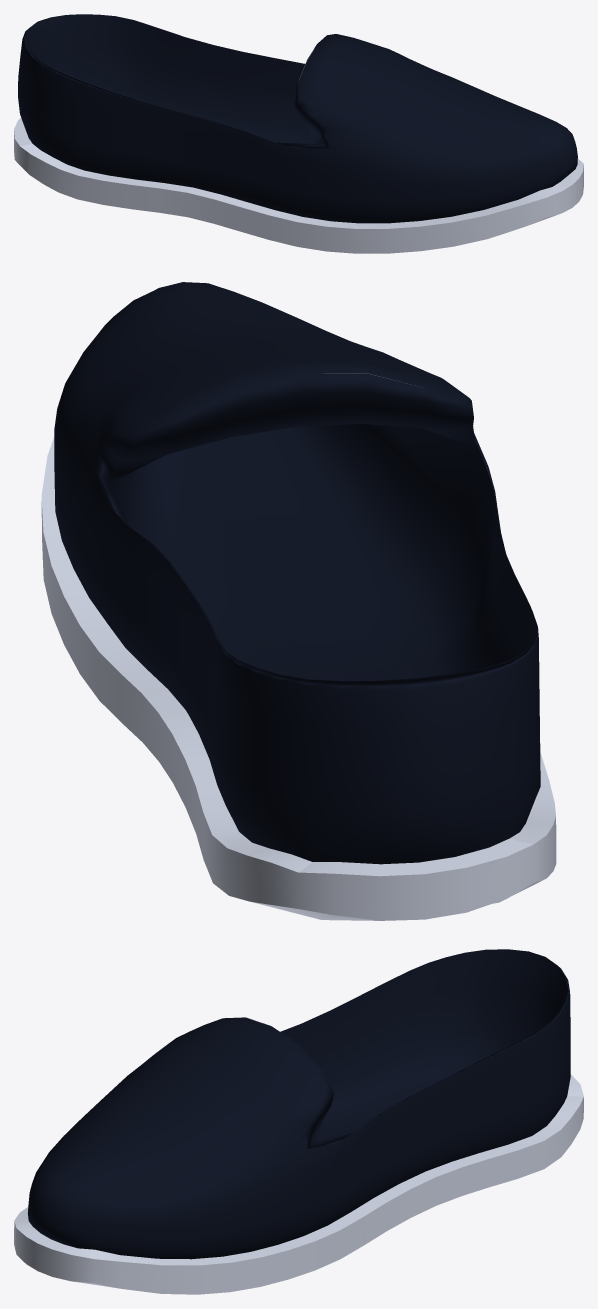
Rendered from Loftheel1.fbx.
3 renders of one model, top to bottom at view 1: azimuth 30°, elevation 25°; view 2: azimuth 150°, elevation 25°; view 3: azimuth 270°, elevation 25°, orthographic. The views are drawn at different scales.
Visible parts, largest first — view 1: FlatBottom2; view 2: FlatBottom2; view 3: FlatBottom2.
Boxes of the visible parts, left/top/right/bottom form: FlatBottom2: left=14, top=14, right=583, bottom=253; FlatBottom2: left=41, top=282, right=556, bottom=920; FlatBottom2: left=14, top=949, right=583, bottom=1294.
Size of the model in its own units: 3.26 by 1.32 by 3.45.
Materials: 1 (1 with a texture image).
